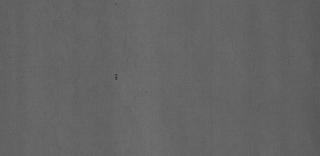oil spot: (114, 72, 120, 82)
